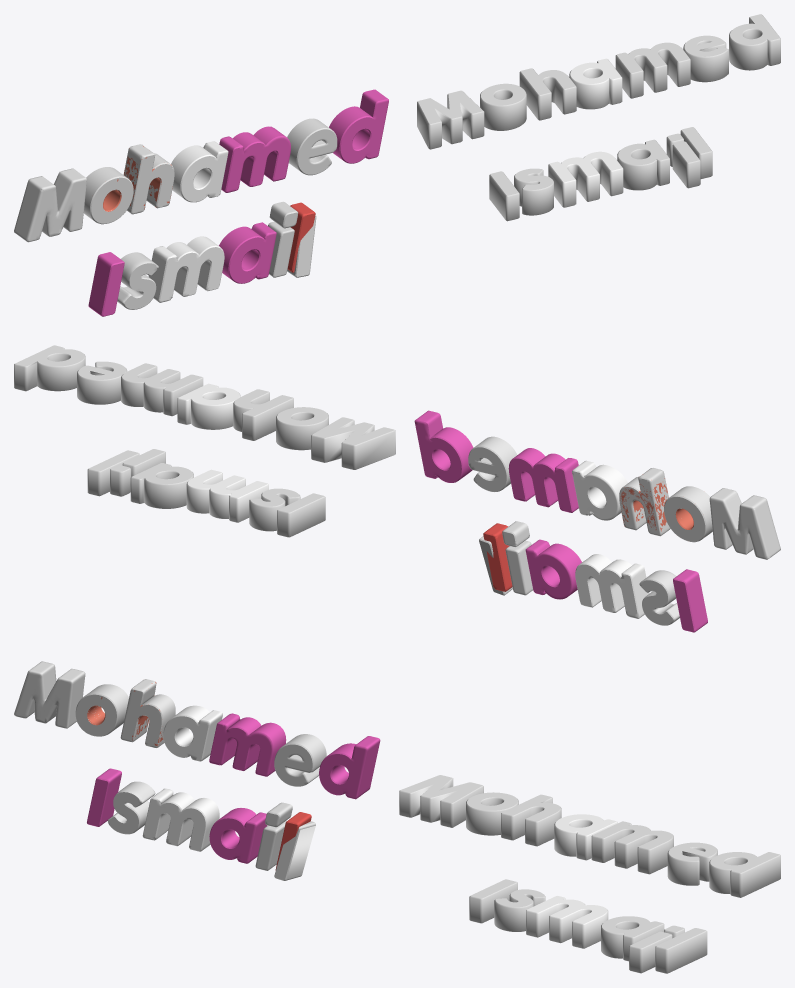
The picture shows the model from 3 angles, top to bottom: view 1: azimuth 30°, elevation 25°; view 2: azimuth 150°, elevation 25°; view 3: azimuth 330°, elevation 25°; orthographic projection. The views are drawn at different scales.
Visible parts, largest first — view 1: Retopo_Text.003, Retopo_Text.002, Text.004, Text.013, Text.009, Text.002, Text.007, Text.012, Text.006, Text.008, Text.003, Text.014 (+4 smaller); view 2: Retopo_Text.003, Retopo_Text.002, Text.009, Text.013, Text.004, Text.002, Text.012, Text.006, Text.007, Text.003, Text.008, Text.005 (+3 smaller); view 3: Retopo_Text.003, Retopo_Text.002, Text.004, Text.013, Text.009, Text.002, Text.007, Text.006, Text.012, Text.003, Text.001, Text.008 (+4 smaller).
Boxes of the visible parts, <box> form: Retopo_Text.003: <box>14,89,388,316</box>; Retopo_Text.002: <box>84,144,174,224</box>; Text.004: <box>615,42,690,98</box>; Text.013: <box>548,151,623,207</box>; Text.009: <box>417,90,484,149</box>; Text.002: <box>729,14,780,70</box>; Text.007: <box>519,68,576,120</box>; Text.012: <box>617,139,669,190</box>; Text.006: <box>569,58,622,109</box>; Text.008: <box>480,83,526,130</box>; Text.003: <box>683,35,728,82</box>; Text.014: <box>514,168,553,215</box>; Retopo_Text.003: <box>414,410,780,632</box>; Retopo_Text.002: <box>619,468,712,542</box>; Text.009: <box>311,417,395,469</box>; Text.013: <box>186,469,268,522</box>; Text.004: <box>121,363,203,416</box>; Text.002: <box>14,345,85,391</box>; Text.012: <box>130,463,193,508</box>; Text.006: <box>177,383,240,429</box>; Text.007: <box>233,389,293,440</box>; Text.003: <box>77,361,127,404</box>; Text.008: <box>276,407,328,450</box>; Text.005: <box>277,493,325,537</box>; Retopo_Text.003: <box>14,661,380,870</box>; Retopo_Text.002: <box>75,679,175,747</box>; Text.004: <box>591,821,673,874</box>; Text.013: <box>526,896,608,948</box>; Text.009: <box>399,775,483,827</box>; Text.002: <box>709,852,780,897</box>; Text.007: <box>501,794,561,846</box>; Text.006: <box>554,814,617,860</box>; Text.012: <box>601,916,664,961</box>; Text.003: <box>667,842,717,885</box>; Text.001: <box>655,928,707,973</box>; Text.008: <box>466,792,518,835</box>.
Bounding box in the file's own units: 11.54 × 2.31 × 1.09.
